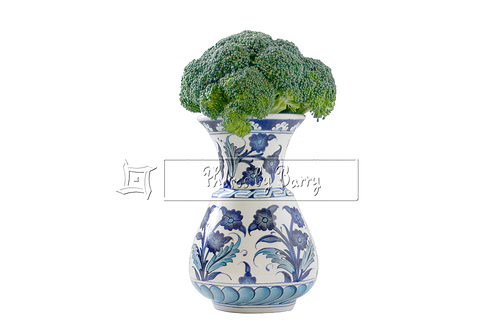broccoli: (178, 30, 338, 137)
